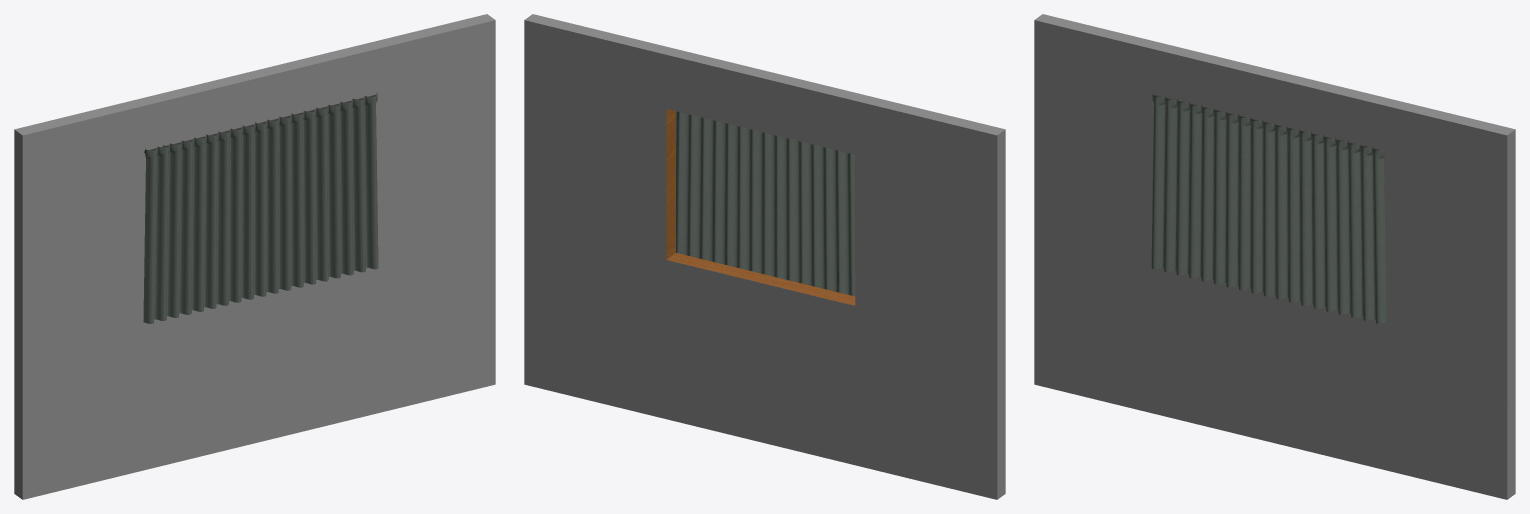
File: room_wall_back.fbx
The picture shows the model from 3 angles, left to right: view 1: azimuth 30°, elevation 25°; view 2: azimuth 150°, elevation 25°; view 3: azimuth 330°, elevation 25°; orthographic projection.
Visible parts, largest first — view 1: room_wall_back; view 2: room_wall_back; view 3: room_wall_back.
Boxes of the visible parts, x1=… form: room_wall_back: x1=14, y1=14, x2=495, y2=499; room_wall_back: x1=524, y1=14, x2=1005, y2=499; room_wall_back: x1=1034, y1=14, x2=1515, y2=499.
Size of the model in its own units: 326 by 240 by 16.67.
Materials: 1 (1 with a texture image).
